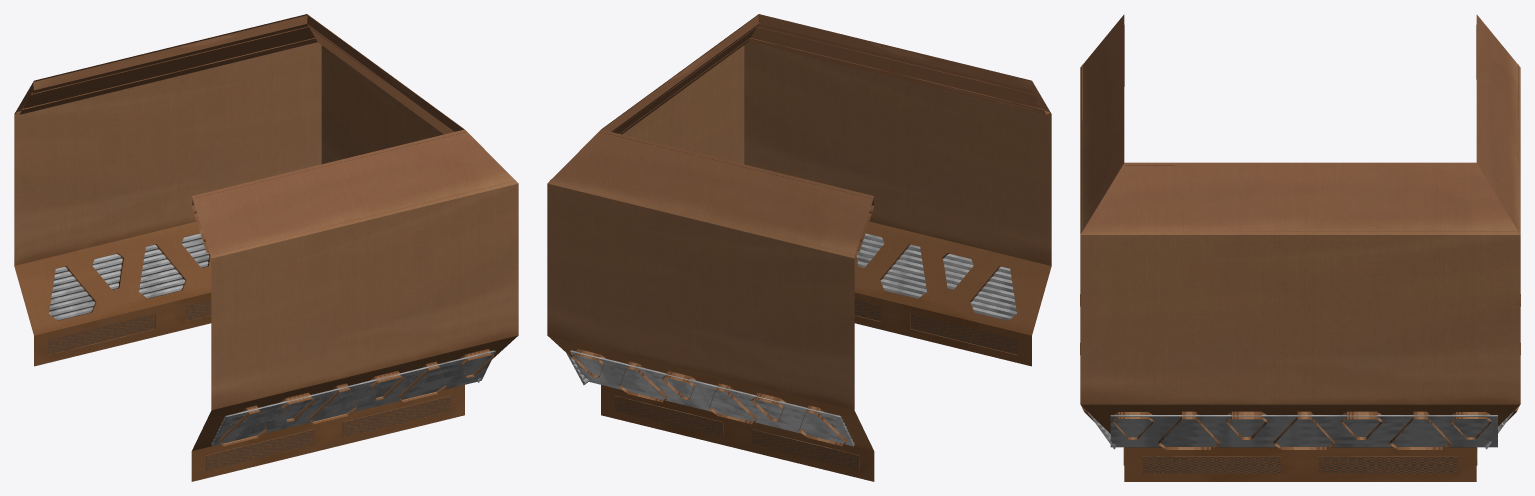
The model's file is interior_wall_double_corner.obj.
The picture shows the model from 3 angles, left to right: view 1: azimuth 30°, elevation 25°; view 2: azimuth 150°, elevation 25°; view 3: azimuth 270°, elevation 25°; orthographic projection. The views are drawn at different scales.
Visible parts, largest first — view 1: Cylinder.000_Cylinder.002, Cylinder.000_Cylinder.000; view 2: Cylinder.000_Cylinder.002, Cylinder.000_Cylinder.000; view 3: Cylinder.000_Cylinder.002, Cylinder.000_Cylinder.000.
Part boxes in pixels (x1=…): Cylinder.000_Cylinder.002: x1=14, y1=14, x2=518, y2=481; Cylinder.000_Cylinder.000: x1=49, y1=233, x2=495, y2=446; Cylinder.000_Cylinder.002: x1=547, y1=14, x2=1051, y2=481; Cylinder.000_Cylinder.000: x1=566, y1=233, x2=1016, y2=446; Cylinder.000_Cylinder.002: x1=1080, y1=14, x2=1520, y2=481; Cylinder.000_Cylinder.000: x1=1087, y1=411, x2=1513, y2=449.
Size of the model in its own units: 4.5 by 4 by 5.01.
